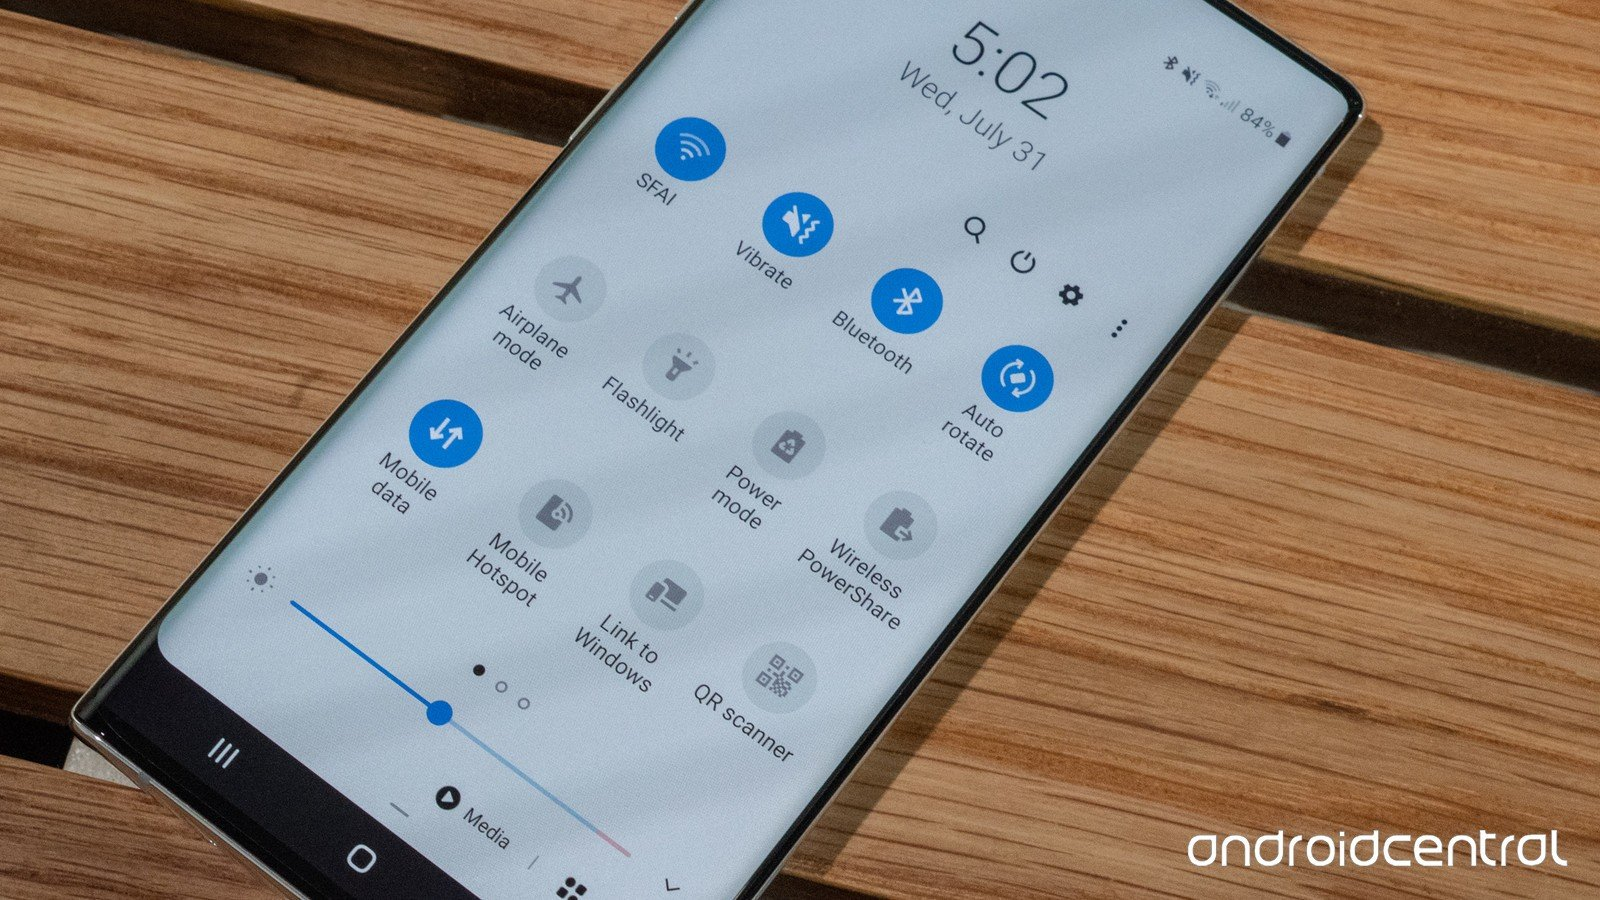Cell Phone: (107, 3, 1345, 865)
